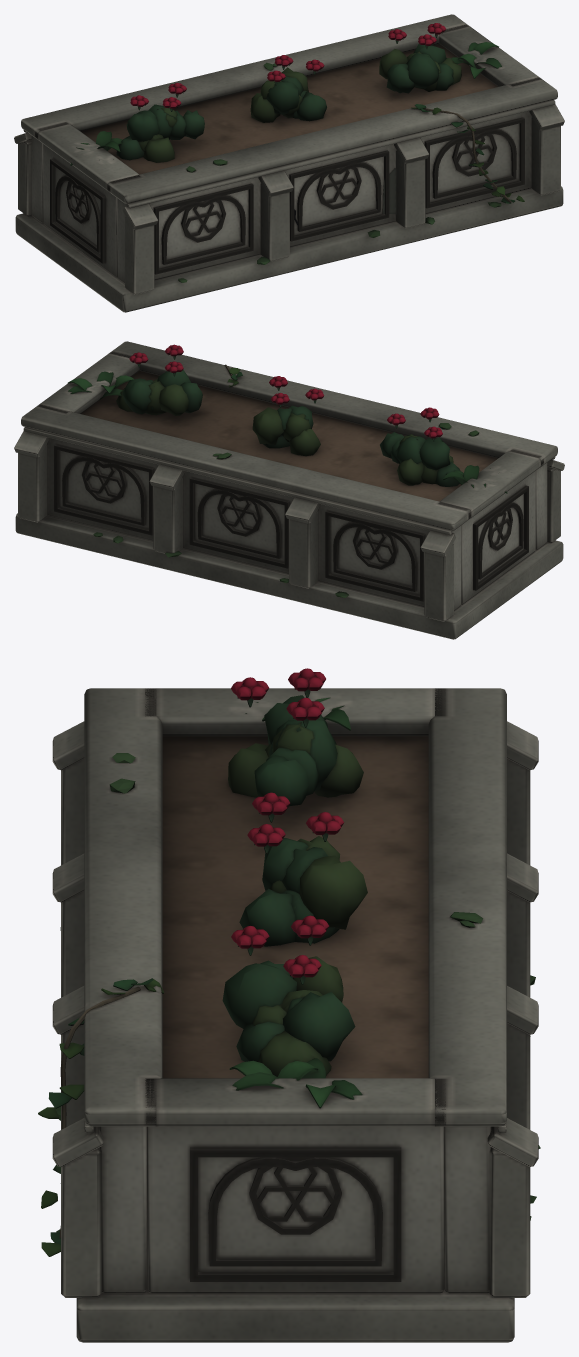
File: StonePlanter.fbx
3 views of the same model, one above another, from view 1: azimuth 30°, elevation 25°; view 2: azimuth 150°, elevation 25°; view 3: azimuth 270°, elevation 25° (orthographic). The views are drawn at different scales.
Visible parts, largest first — view 1: StonePlanter; view 2: StonePlanter; view 3: StonePlanter.
Part boxes in pixels (left/top/right/bottom): StonePlanter: left=14, top=14, right=564, bottom=312; StonePlanter: left=14, top=341, right=564, bottom=639; StonePlanter: left=38, top=668, right=540, bottom=1342.
Size of the model in its own units: 650 by 231 by 321.
